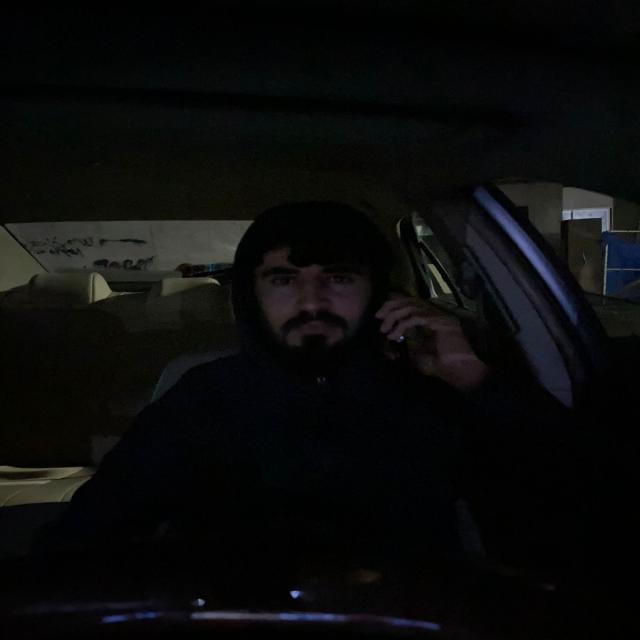person: (235, 214, 379, 362)
